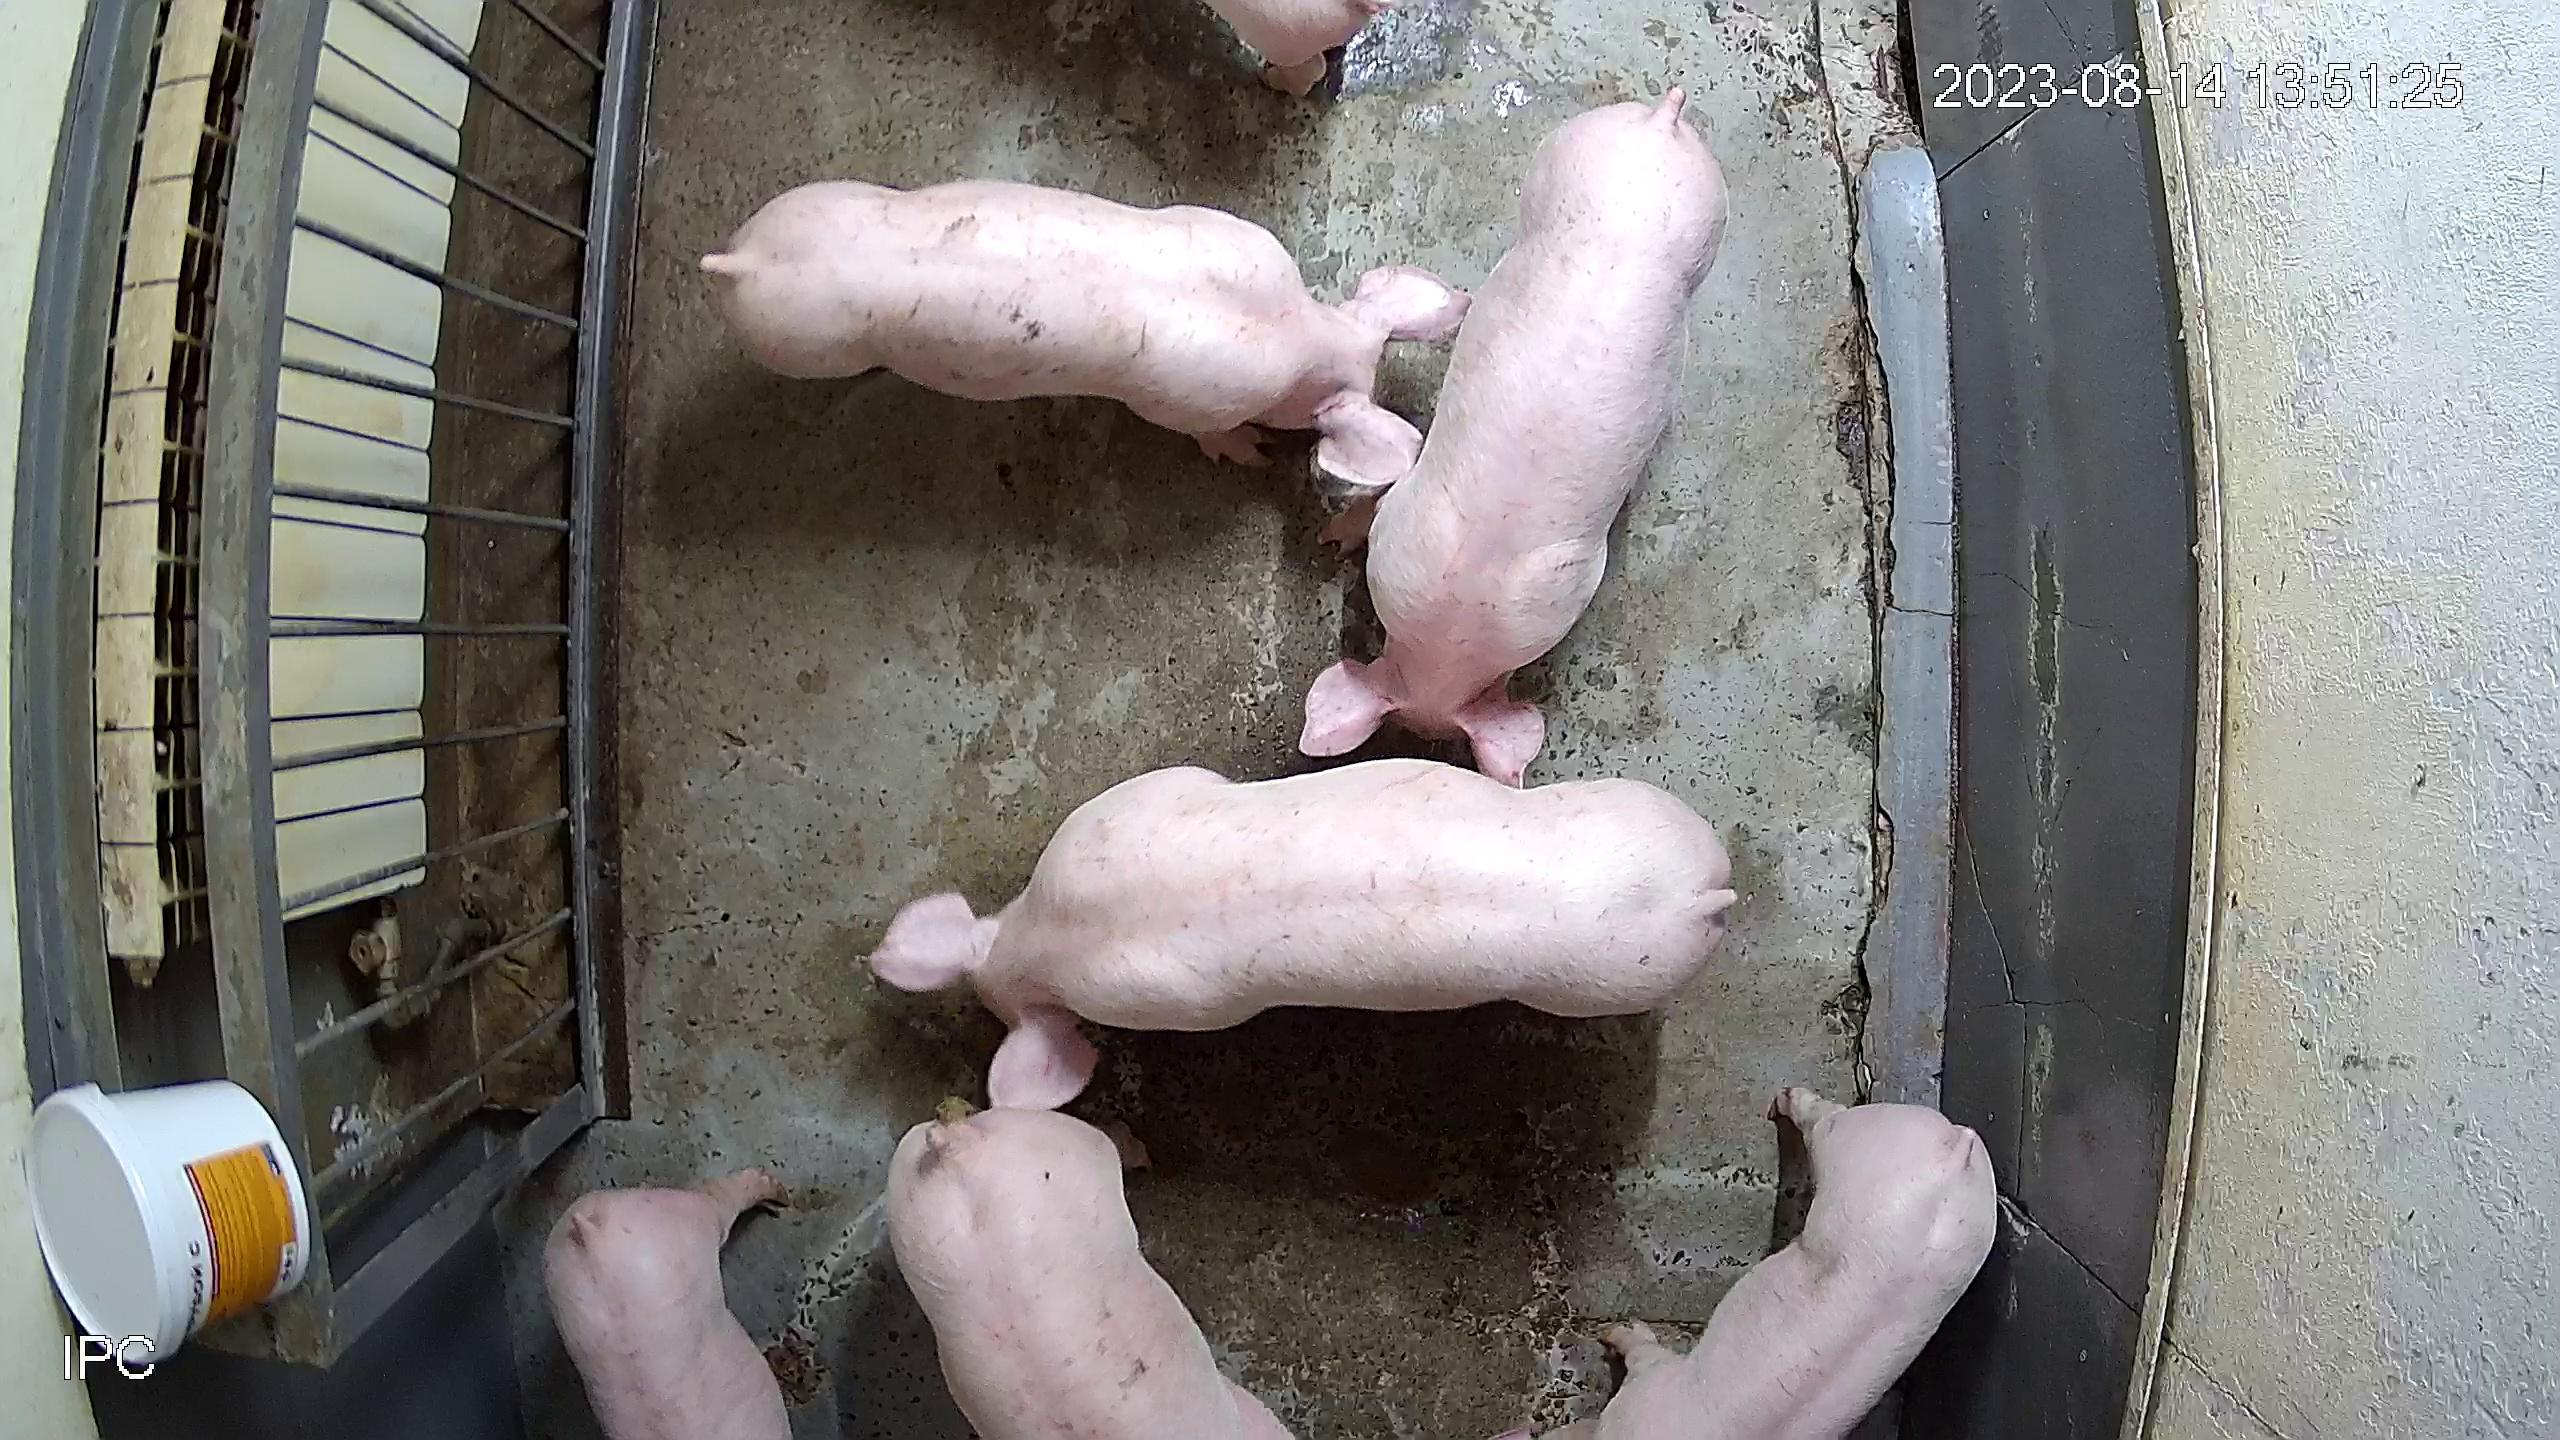Pig: (869, 758, 1739, 1108), (1301, 83, 1728, 784), (700, 176, 1470, 492), (1577, 1088, 2001, 1440), (886, 1108, 1285, 1440), (543, 1169, 789, 1440), (1206, 0, 1391, 62)
